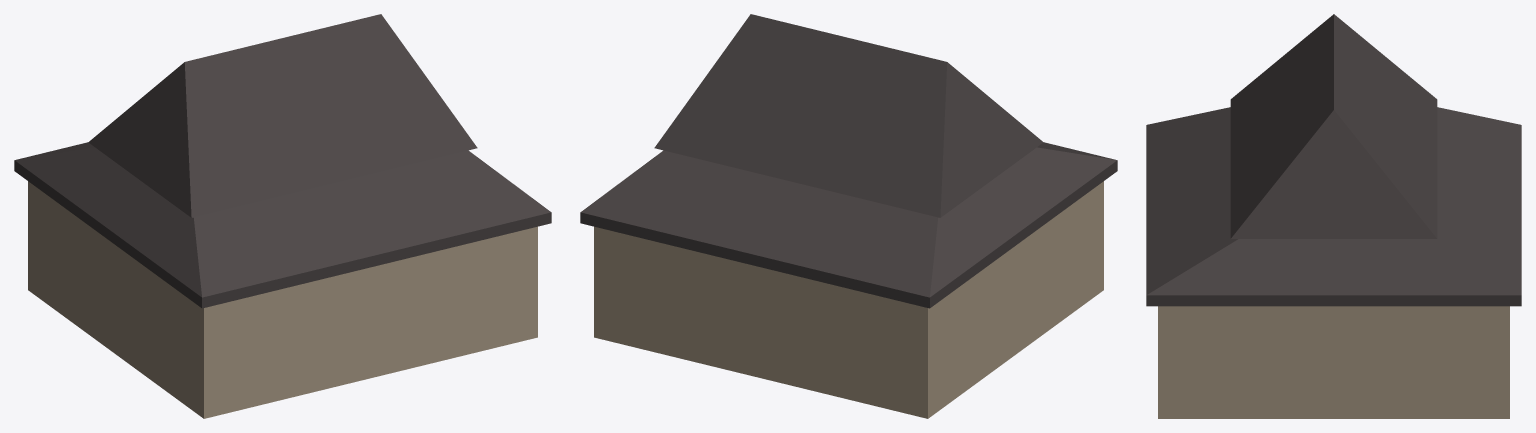
The model's file is G_Prabayeksa.fbx.
3 views of the same model, side by side, from view 1: azimuth 30°, elevation 25°; view 2: azimuth 150°, elevation 25°; view 3: azimuth 270°, elevation 25° (orthographic).
Parts seen in each view (by area): view 1: G_Prabayeksa; view 2: G_Prabayeksa; view 3: G_Prabayeksa.
Boxes of the visible parts, left/top/right/bottom form: G_Prabayeksa: left=14, top=14, right=551, bottom=418; G_Prabayeksa: left=580, top=14, right=1117, bottom=418; G_Prabayeksa: left=1146, top=14, right=1521, bottom=418.
Bounding box in the file's own units: 424 × 320 × 394.
1 material, 1 textured.
